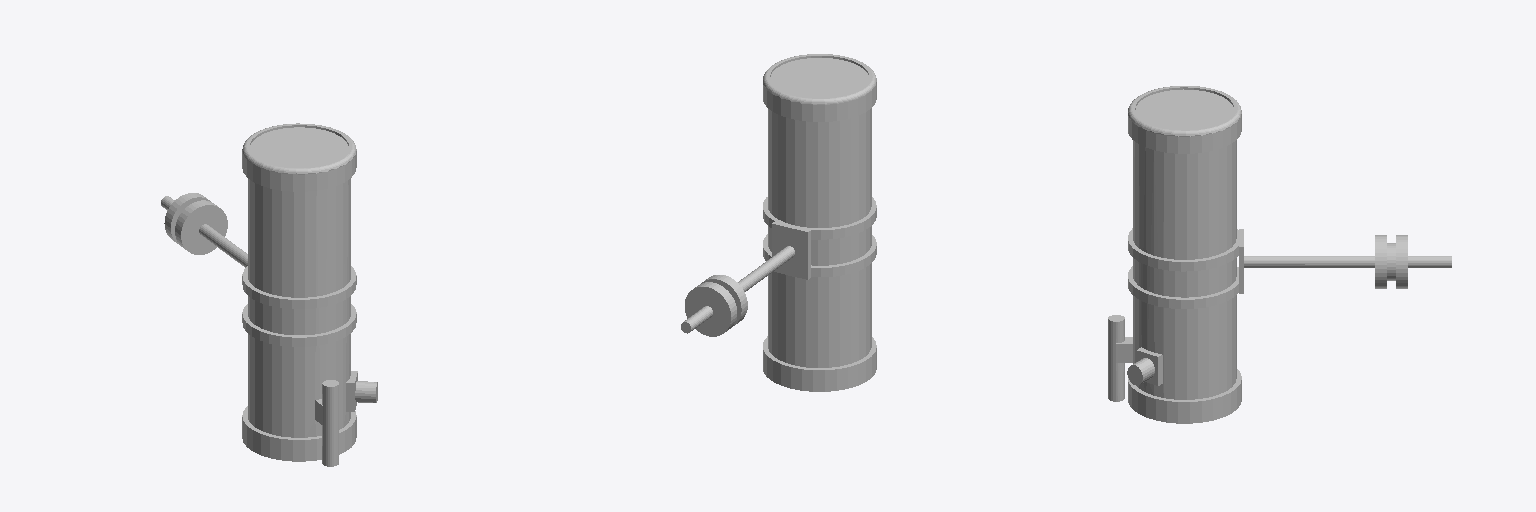
File: Reflector.obj
3 renders of one model, left to right at view 1: azimuth 30°, elevation 25°; view 2: azimuth 150°, elevation 25°; view 3: azimuth 270°, elevation 25°, orthographic.
Parts seen in each view (by area): view 1: Body15, Body21, Body22; view 2: Body15, Body21, Body22; view 3: Body15, Body21, Body22.
Part boxes in pixels (x1,y1,x2,y2): Body15: (242, 123, 377, 466); Body21: (161, 196, 356, 346); Body22: (164, 193, 227, 254); Body15: (763, 54, 876, 391); Body21: (681, 197, 876, 333); Body22: (685, 275, 747, 336); Body15: (1108, 86, 1241, 423); Body21: (1128, 228, 1451, 308); Body22: (1375, 235, 1407, 288).
Size of the model in its own units: 298 by 774 by 827.